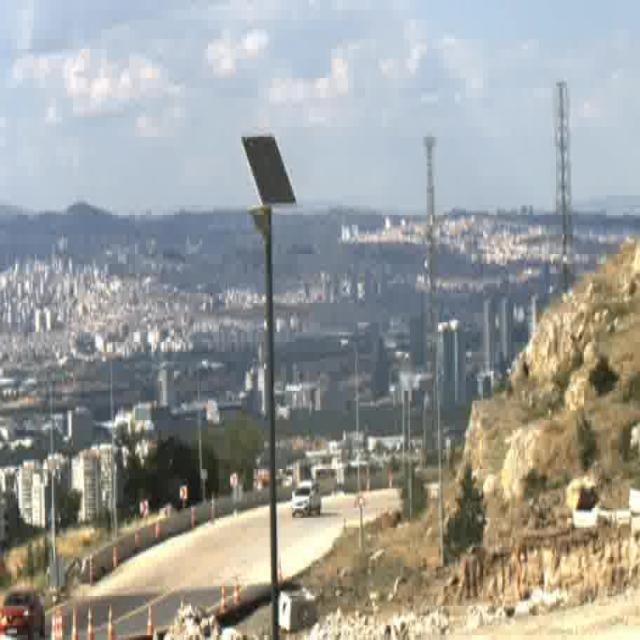Car: (0, 590, 46, 636), (292, 477, 322, 517)
